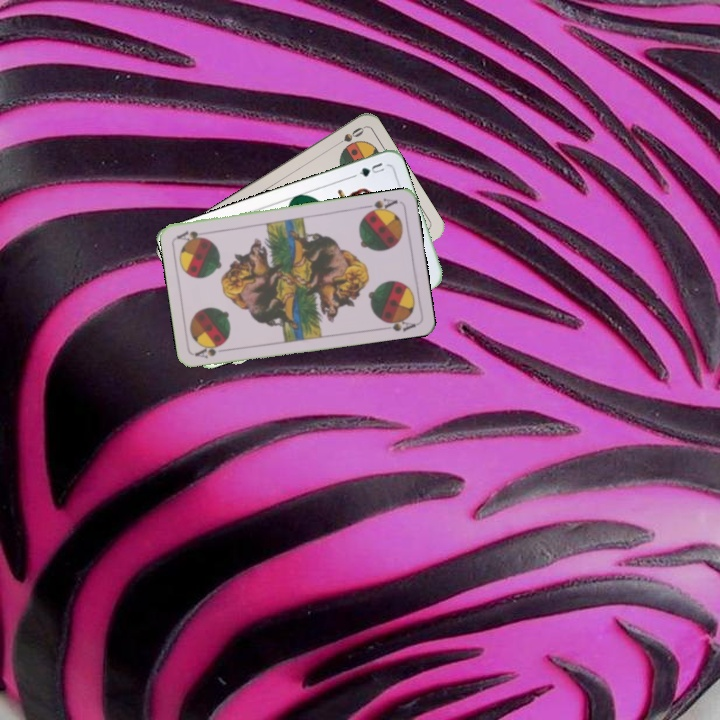GU: (349, 158, 389, 180)
SA: (361, 194, 400, 217), (191, 340, 232, 361)
SO: (330, 123, 367, 150)
